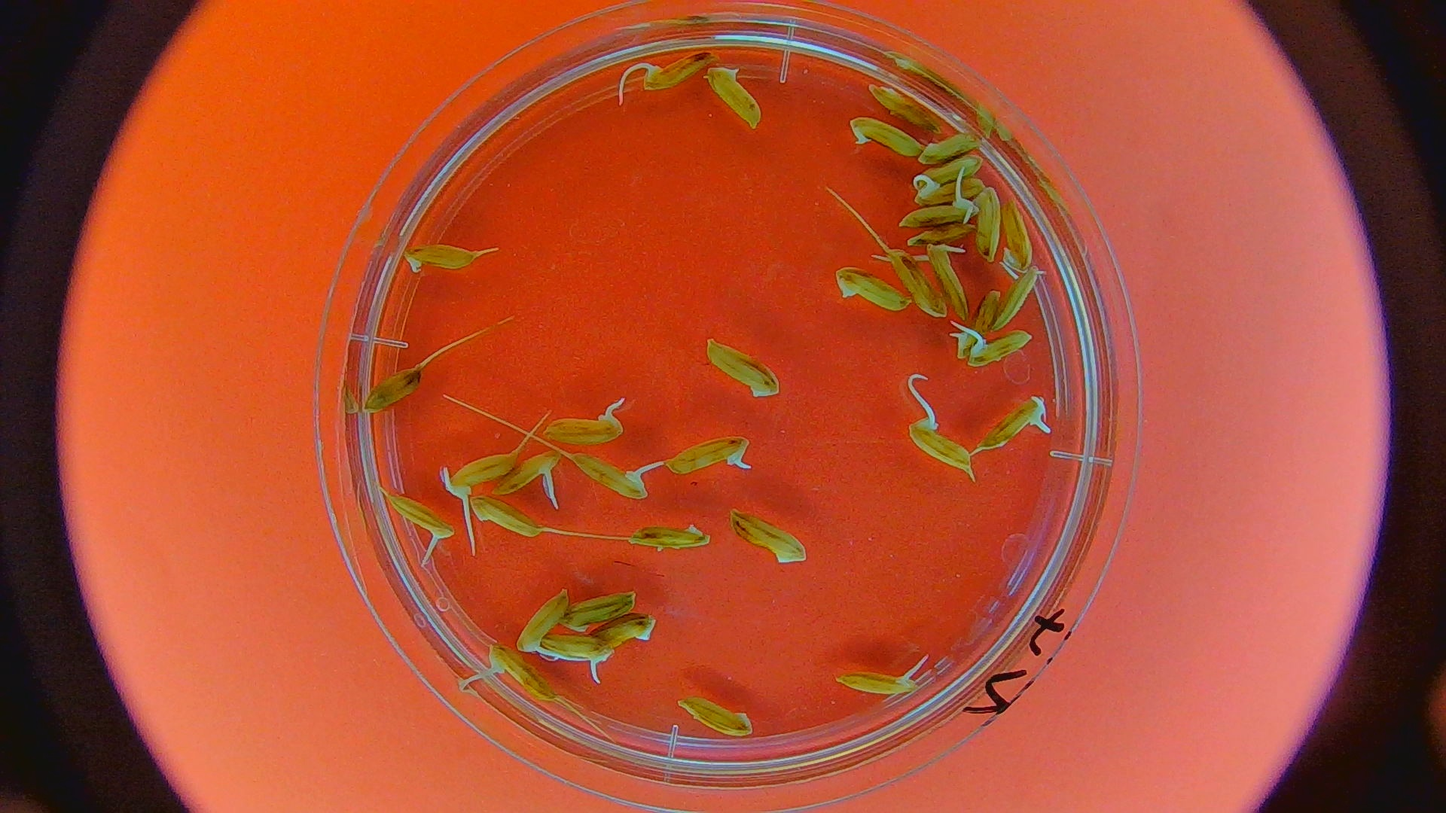no: (703, 339, 781, 400), (728, 512, 806, 567), (868, 81, 942, 131), (702, 65, 763, 123), (676, 696, 756, 738), (850, 114, 923, 158), (363, 367, 423, 419), (886, 251, 934, 314), (835, 265, 908, 306), (469, 495, 545, 534), (627, 522, 712, 556), (403, 239, 483, 274), (566, 594, 635, 634), (590, 614, 663, 644), (977, 184, 1005, 260), (902, 221, 975, 244), (918, 135, 977, 160), (913, 157, 980, 179)
yes: (977, 392, 1047, 454), (380, 492, 455, 544), (572, 452, 650, 502), (665, 434, 755, 476), (490, 645, 553, 700), (927, 240, 972, 316), (910, 421, 974, 472), (447, 448, 517, 494), (993, 266, 1041, 332), (491, 449, 561, 494), (960, 285, 1005, 355), (638, 47, 715, 87), (520, 593, 568, 655), (541, 413, 623, 449), (1002, 199, 1039, 272), (905, 175, 984, 209), (543, 635, 614, 671), (898, 197, 979, 228), (965, 331, 1034, 365), (837, 668, 918, 695)
